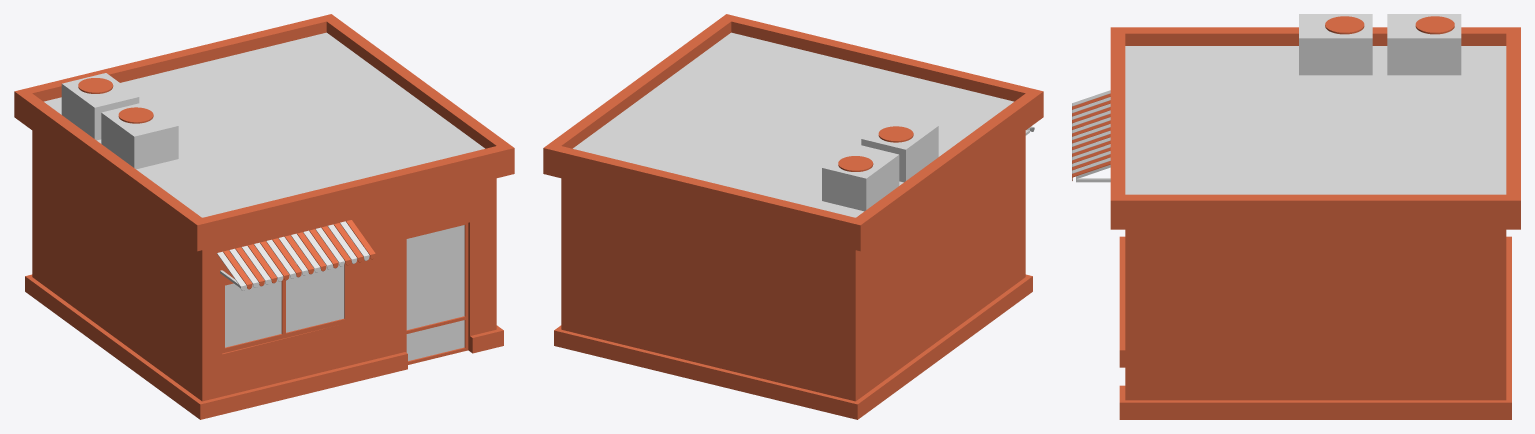
File: ShopModel 1.fbx
3 views of the same model, side by side, from view 1: azimuth 30°, elevation 25°; view 2: azimuth 150°, elevation 25°; view 3: azimuth 270°, elevation 25° (orthographic). The views are drawn at different scales.
Parts seen in each view (by area): view 1: Cube; view 2: Cube; view 3: Cube.
Part boxes in pixels (left/top/right/bottom): Cube: left=14, top=14, right=514, bottom=419; Cube: left=543, top=14, right=1043, bottom=419; Cube: left=1072, top=14, right=1520, bottom=419.
Bounding box in the file's own units: 500 × 336 × 547.
